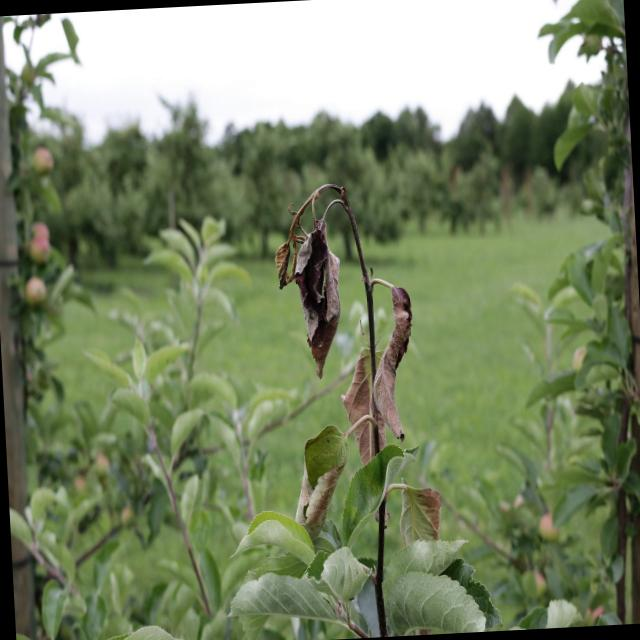-FireBlight-: (276, 174, 420, 485)
